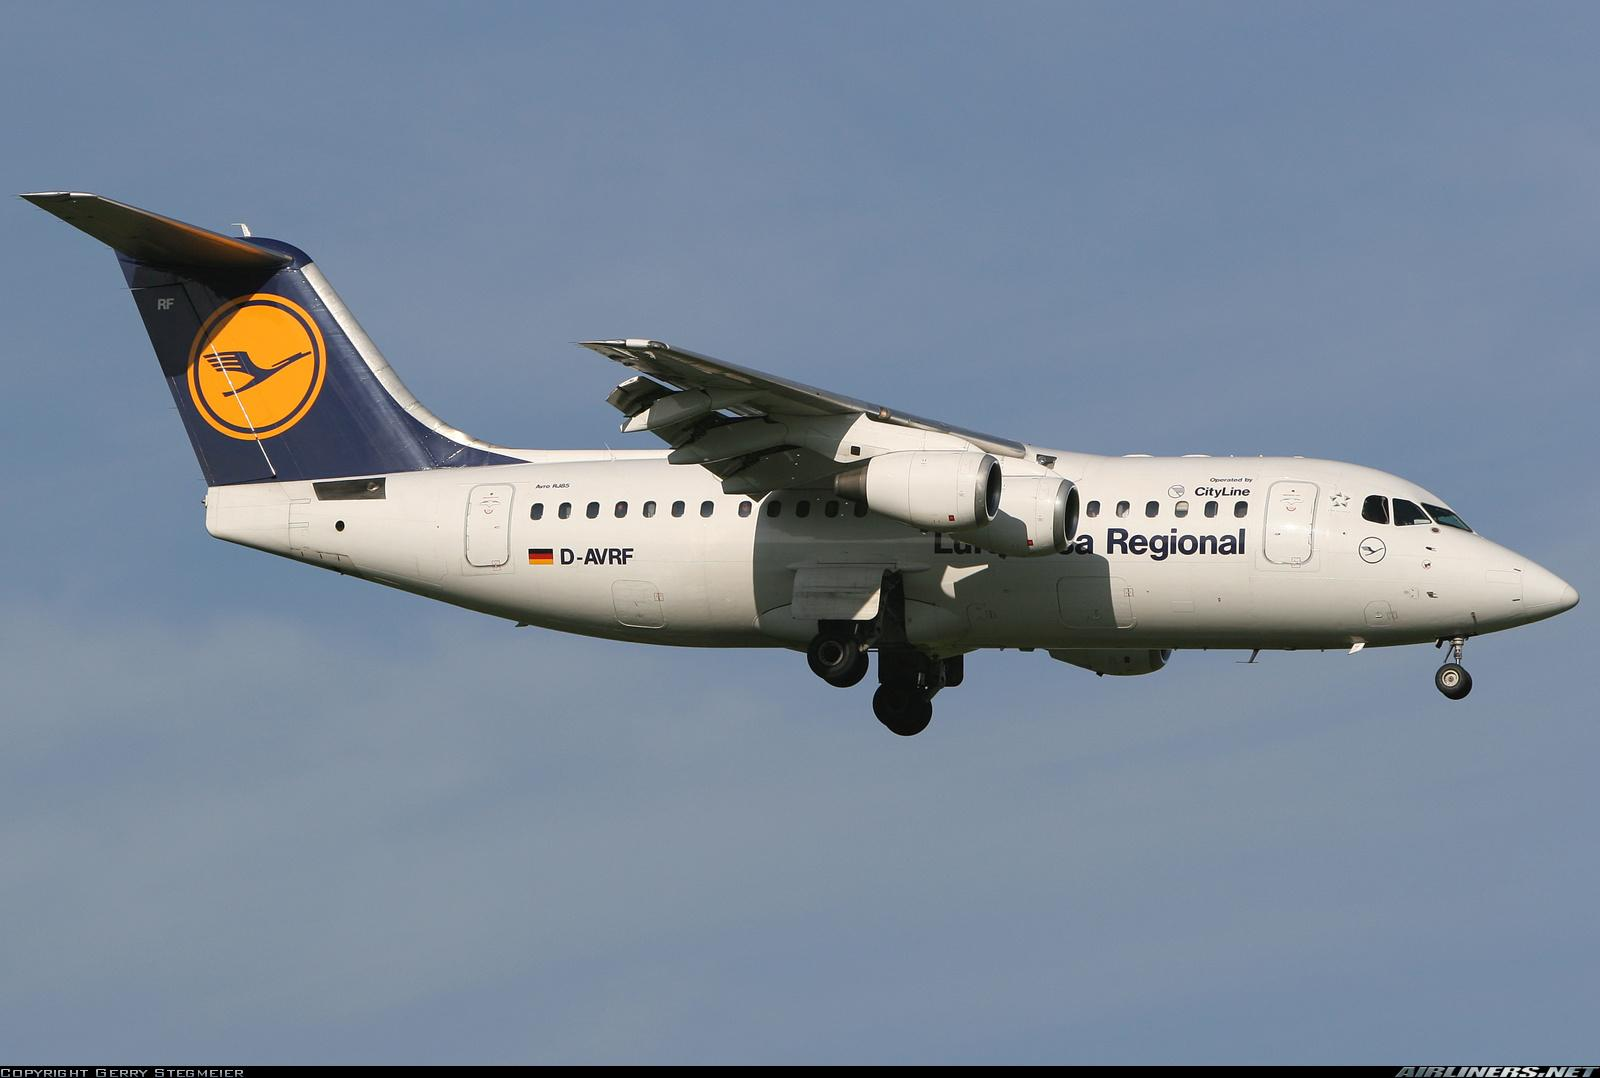airplane: (19, 180, 1582, 707)
